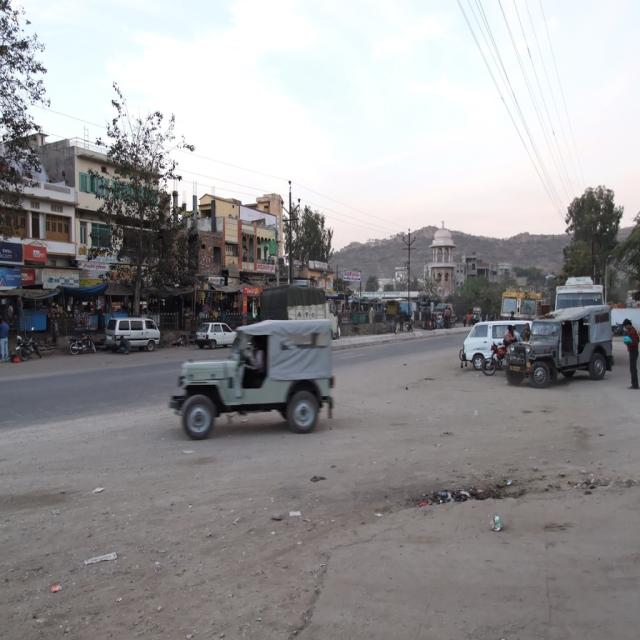car: (101, 312, 161, 348)
